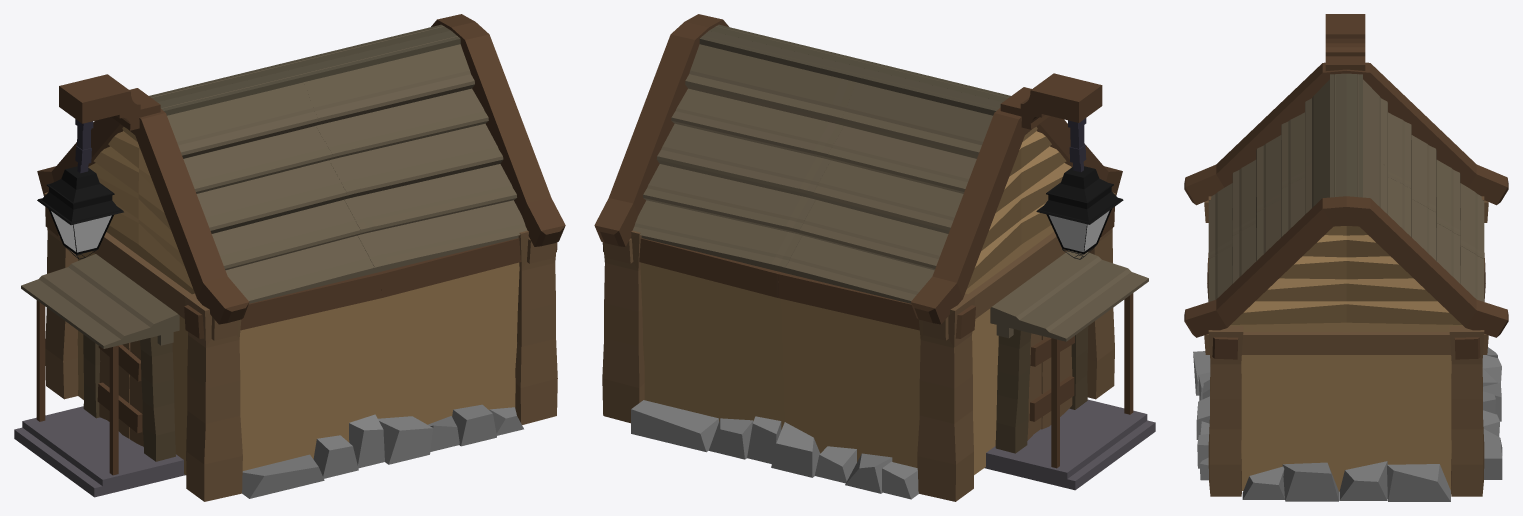
The model's file is casa4.fbx.
3 renders of one model, left to right at view 1: azimuth 30°, elevation 25°; view 2: azimuth 150°, elevation 25°; view 3: azimuth 270°, elevation 25°, orthographic. The views are drawn at different scales.
Parts seen in each view (by area): view 1: casa.009, porta.006, pedras.009, madeira porta.005, negocinho feio.003, porta.008, negocinho feio.029, negocinho feio.028; view 2: casa.009, porta.006, pedras.009, madeira porta.005, negocinho feio.003, porta.008, negocinho feio.029, negocinho feio.028; view 3: casa.009, pedras.009, negocinho feio.003.
Part boxes in pixels (x1,y1,x2,y2): casa.009: (37,14,565,501); porta.006: (14,254,185,497); pedras.009: (242,404,523,498); madeira porta.005: (83,334,175,461); negocinho feio.003: (59,74,160,173); porta.008: (97,340,143,446); negocinho feio.029: (37,166,123,225); negocinho feio.028: (51,211,111,252); casa.009: (594,14,1122,501); porta.006: (984,250,1155,490); pedras.009: (631,400,919,499); madeira porta.005: (995,326,1088,453); negocinho feio.003: (1000,73,1102,172); porta.008: (1027,333,1074,440); negocinho feio.029: (1036,166,1123,224); negocinho feio.028: (1049,210,1109,251); casa.009: (1184,62,1508,496); pedras.009: (1193,347,1502,501); negocinho feio.003: (1325,14,1365,70).
Size of the model in its own units: 4775 by 3765 by 3527.
